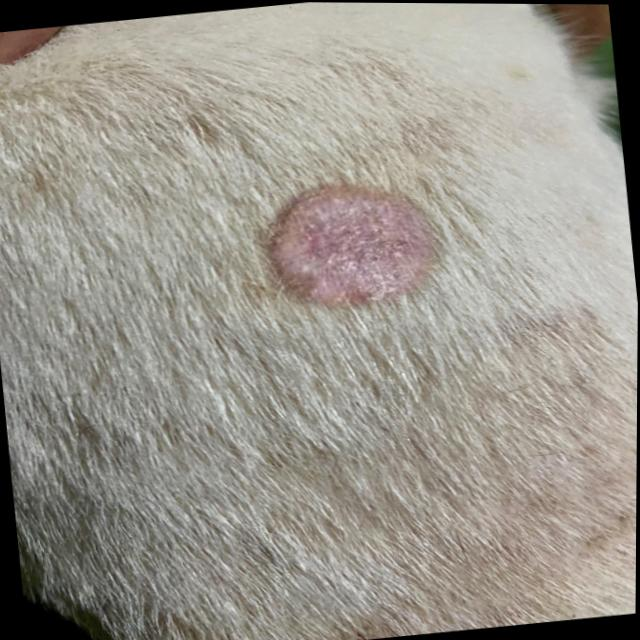ringworm: (243, 165, 468, 319)
